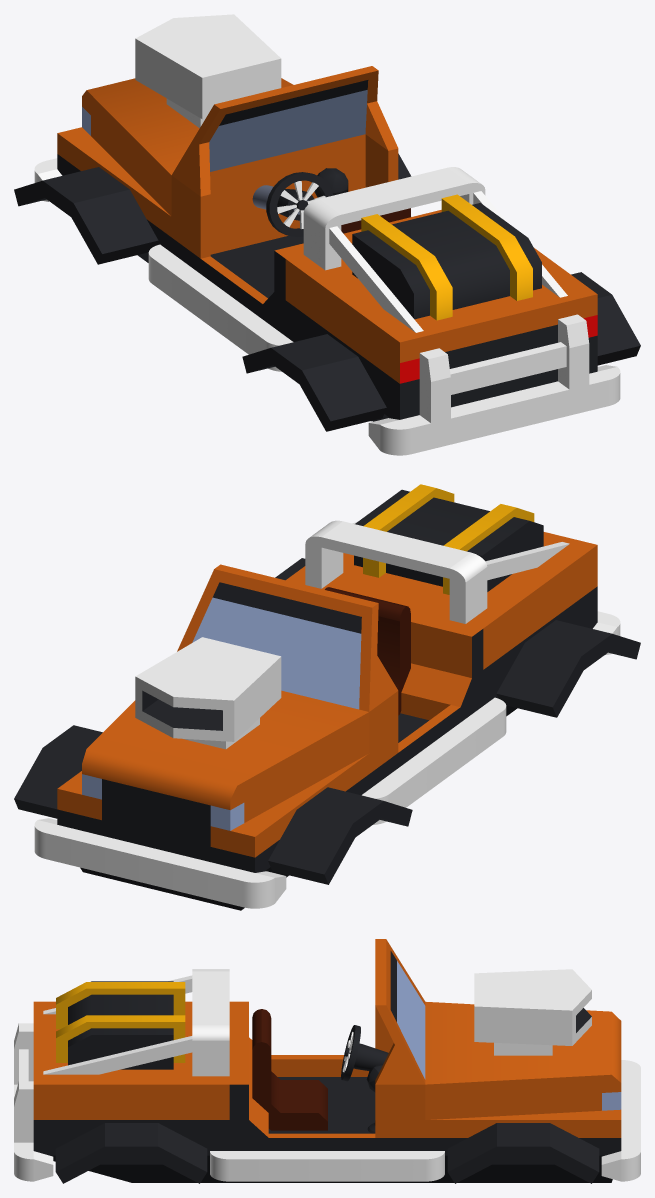
File: OrangeJeepOpen_noWheel.glb
The picture shows the model from 3 angles, top to bottom: view 1: azimuth 30°, elevation 25°; view 2: azimuth 150°, elevation 25°; view 3: azimuth 270°, elevation 25°; orthographic projection. The views are drawn at different scales.
Visible parts, largest first — view 1: mergedBlocks(Clone); view 2: mergedBlocks(Clone); view 3: mergedBlocks(Clone).
Boxes of the visible parts, box(x1,y1,x2,y2) form: mergedBlocks(Clone): box(14, 14, 640, 455); mergedBlocks(Clone): box(14, 484, 640, 910); mergedBlocks(Clone): box(14, 939, 640, 1183).
Size of the model in its own units: 1.57 by 1 by 3.2.
